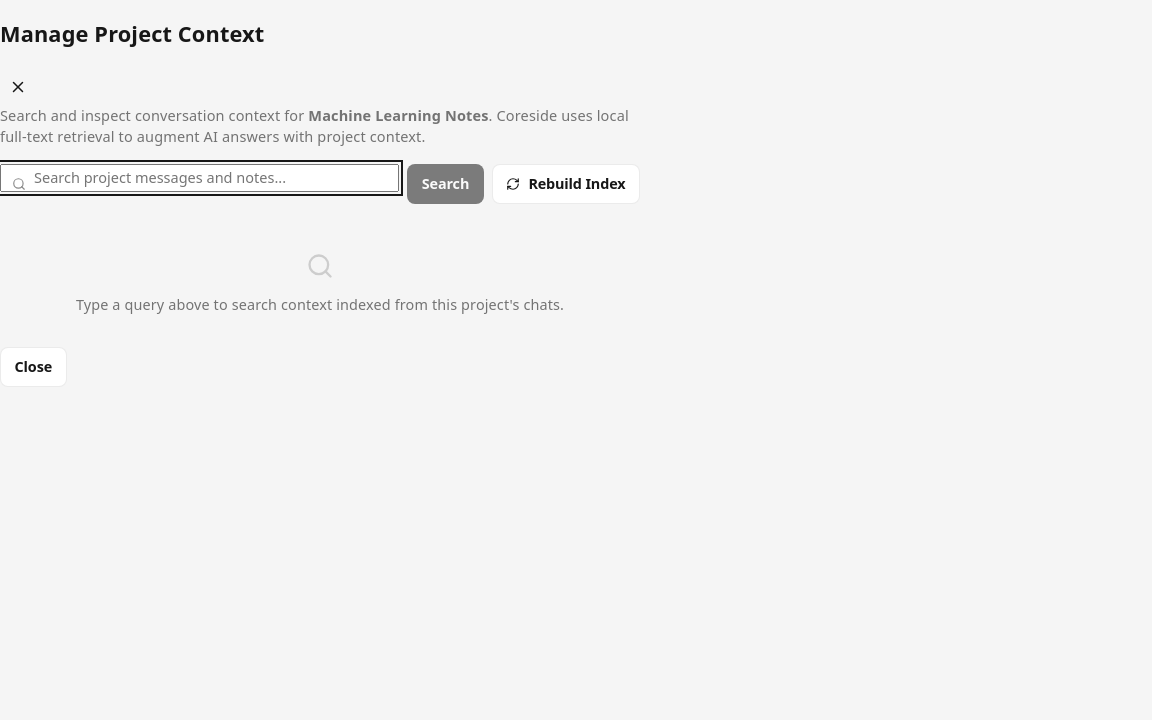
Test case: ProjectContextDialog › searches context and displays hits
This screenshot has width=1152, height=720.
Type "attention" into the search field with placeholder "Search project messages and notes..." at (200, 178), box [0,164,399,192]
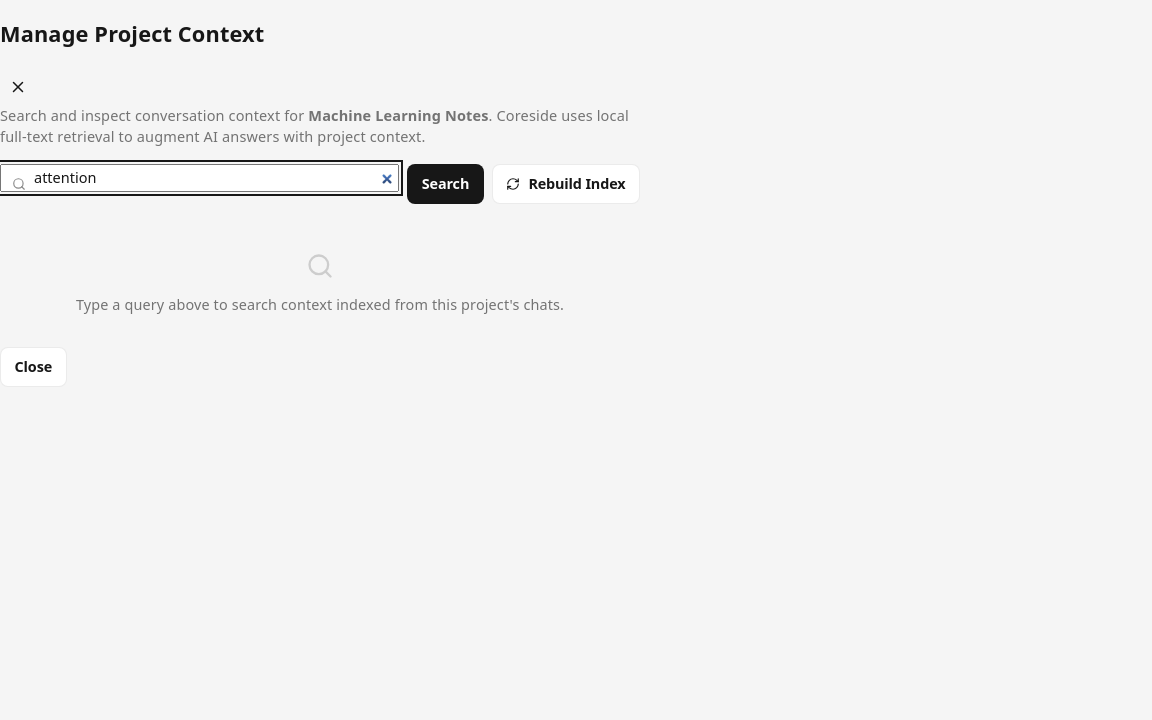
Click the button "Search" at (445, 184), box [407,164,484,204]
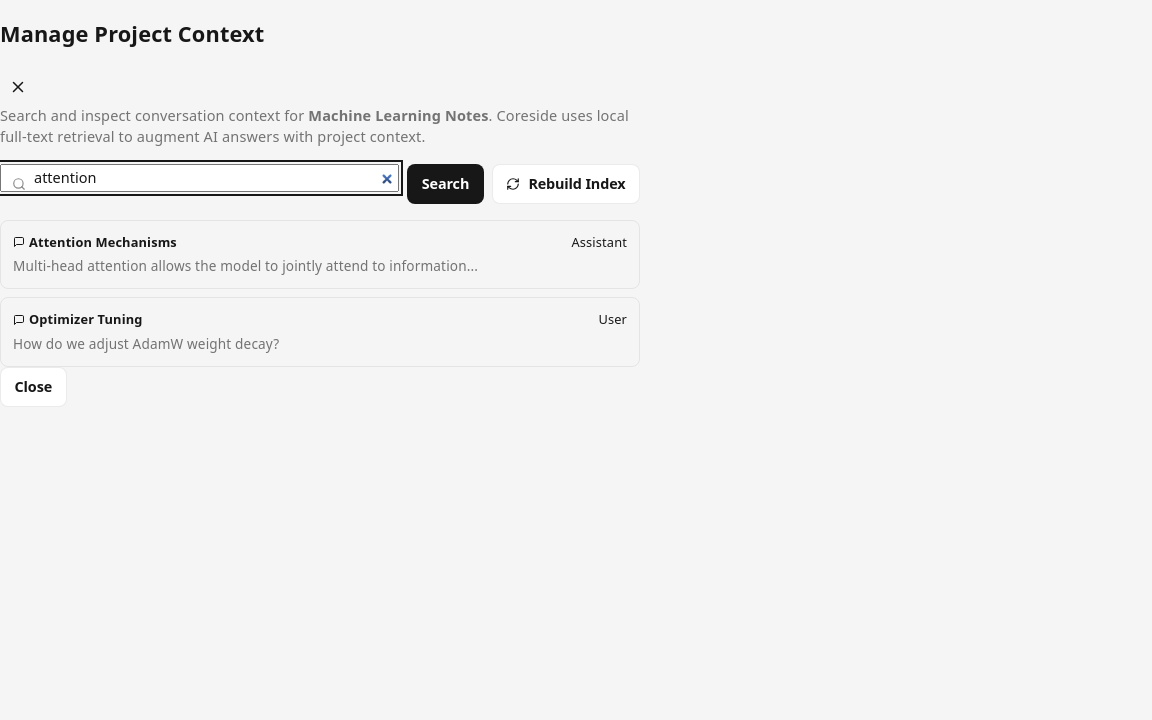
Check: the text "Attention Mechanisms" is shown, box [13,233,177,252]
Check: the text "Multi-head attention allows" is shown, box [13,256,478,275]
Check: the text "Optimizer Tuning" is shown, box [13,310,142,330]
